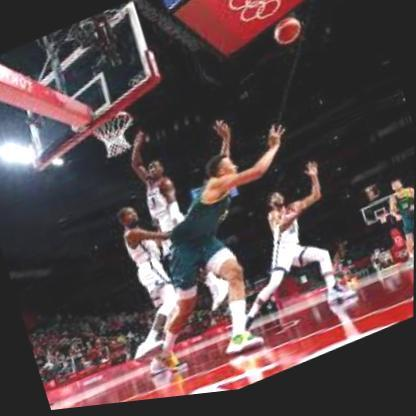basketball: (270, 20, 304, 56)
rim: (89, 109, 136, 146)
